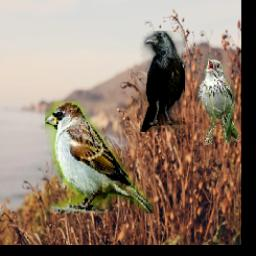Crow: (141, 31, 186, 132)
Sparrow: (45, 102, 154, 214), (197, 58, 239, 145)
